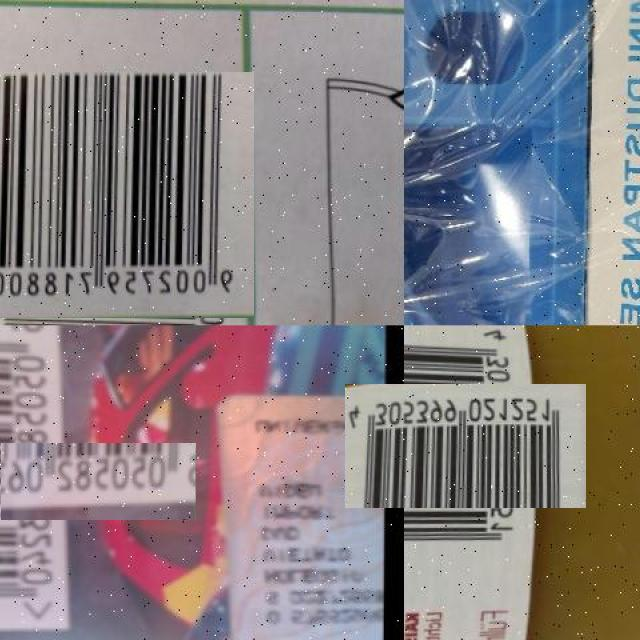Barcode: (0, 67, 251, 321), (374, 355, 558, 537), (0, 383, 137, 579)
